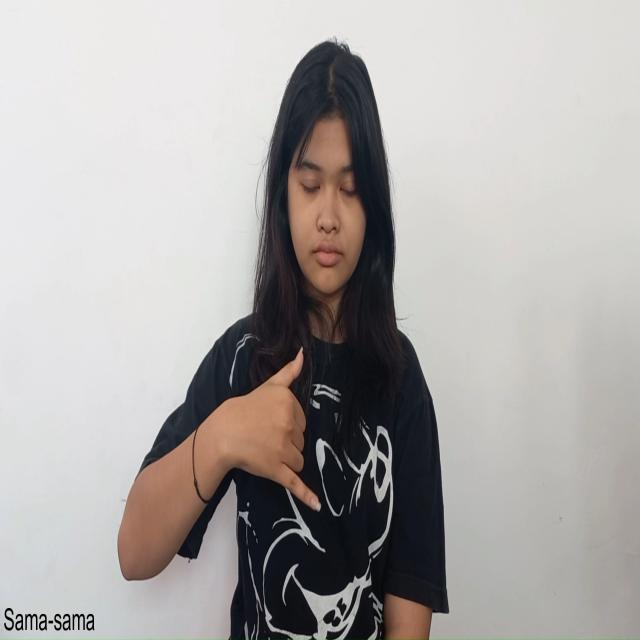Sama-sama -BISINDO-: (212, 344, 322, 514)
